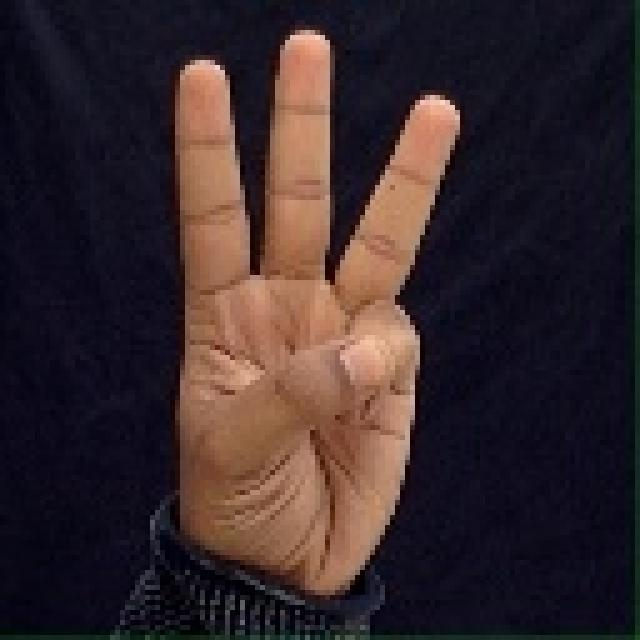Please: (138, 7, 493, 620)
